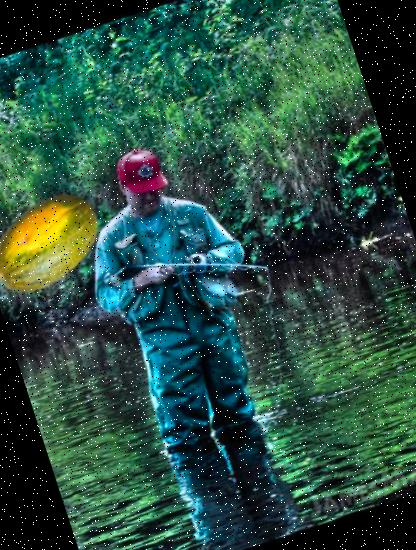Melon: (0, 170, 118, 316)
